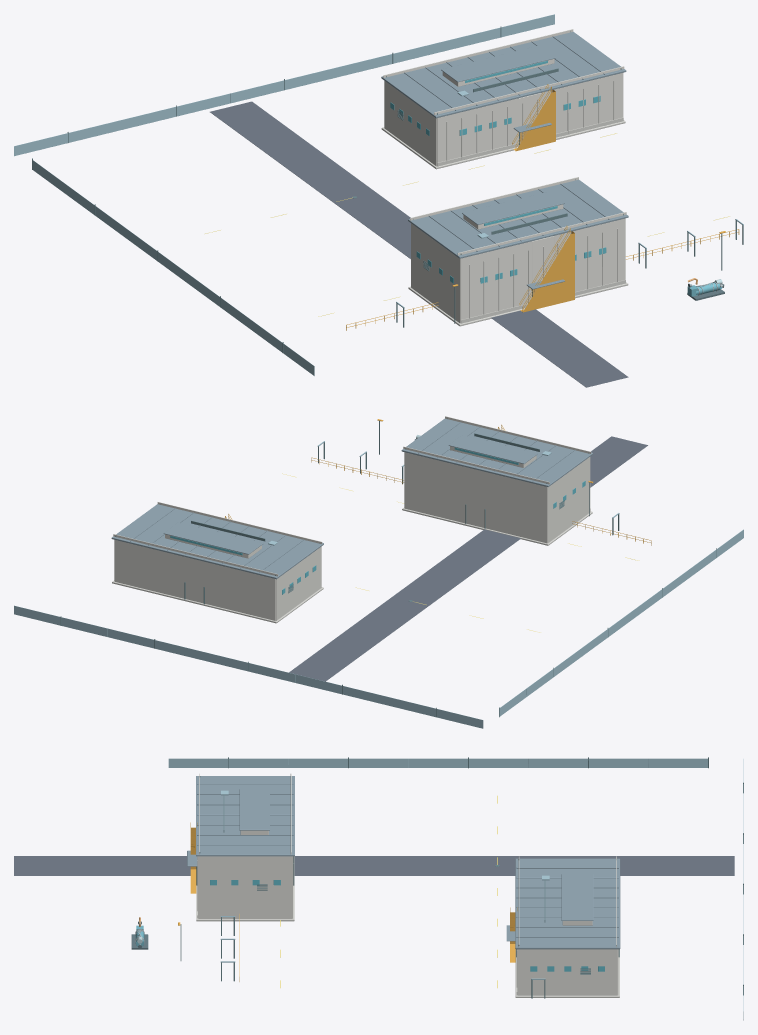
3 views of the same model, one above another, from view 1: azimuth 30°, elevation 25°; view 2: azimuth 150°, elevation 25°; view 3: azimuth 270°, elevation 25° (orthographic). The views are drawn at different scales.
Parts seen in each view (by area): view 1: render-batch-13, render-batch-6, render-batch-3, render-batch-7, render-batch-14, render-batch-10, render-batch-4, render-batch-2; view 2: render-batch-13, render-batch-6, render-batch-3, render-batch-7, render-batch-10, render-batch-4, render-batch-2; view 3: render-batch-6, render-batch-13, render-batch-3, render-batch-7, render-batch-10, render-batch-4, render-batch-14.
Part boxes in pixels (x1=…): render-batch-13: x1=383, y1=29, x2=626, y2=323; render-batch-6: x1=381, y1=31, x2=628, y2=289; render-batch-3: x1=210, y1=101, x2=628, y2=387; render-batch-7: x1=14, y1=14, x2=743, y2=375; render-batch-14: x1=346, y1=84, x2=739, y2=330; render-batch-10: x1=381, y1=81, x2=628, y2=326; render-batch-4: x1=32, y1=26, x2=743, y2=352; render-batch-2: x1=390, y1=60, x2=606, y2=283; render-batch-13: x1=113, y1=416, x2=591, y2=620; render-batch-6: x1=111, y1=418, x2=592, y2=579; render-batch-3: x1=289, y1=436, x2=647, y2=681; render-batch-7: x1=14, y1=441, x2=743, y2=728; render-batch-10: x1=112, y1=507, x2=592, y2=623; render-batch-4: x1=60, y1=418, x2=716, y2=717; render-batch-2: x1=170, y1=447, x2=585, y2=594; render-batch-6: x1=187, y1=776, x2=620, y2=949; render-batch-13: x1=198, y1=773, x2=618, y2=995; render-batch-3: x1=14, y1=856, x2=734, y2=875; render-batch-7: x1=168, y1=758, x2=743, y2=1020; render-batch-10: x1=196, y1=856, x2=619, y2=997; render-batch-4: x1=180, y1=757, x2=743, y2=998; render-batch-14: x1=178, y1=822, x2=517, y2=981.
Bounding box in the file's own units: 102 × 13.65 × 125.
